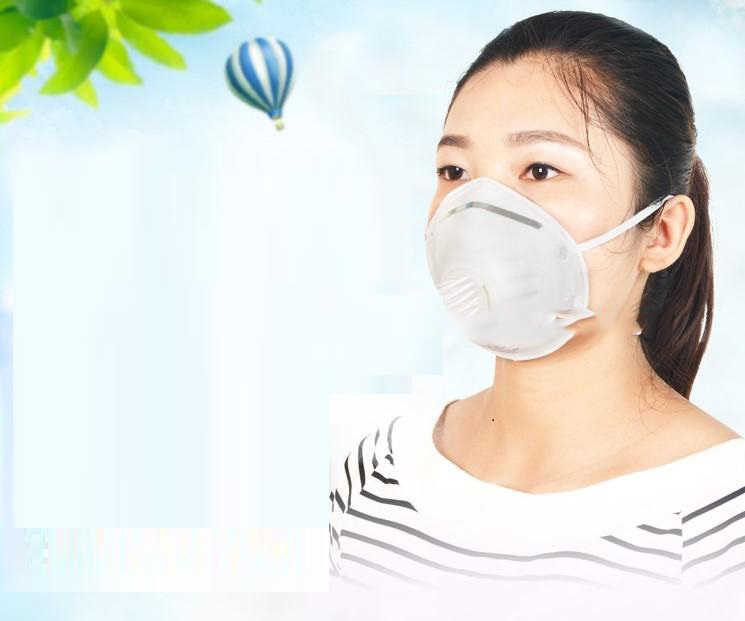face_mask: (419, 56, 648, 346)
